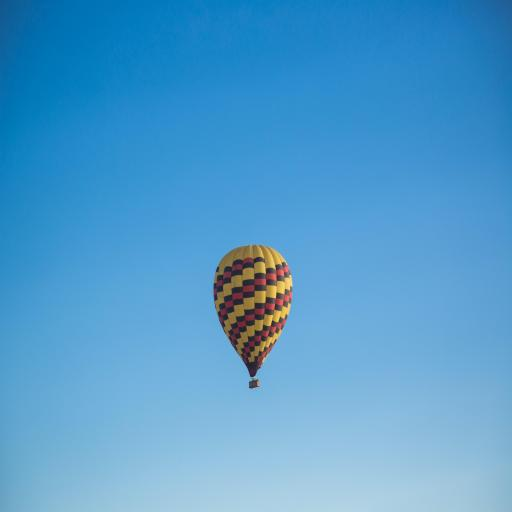hot air ballon: (214, 245, 293, 389)
